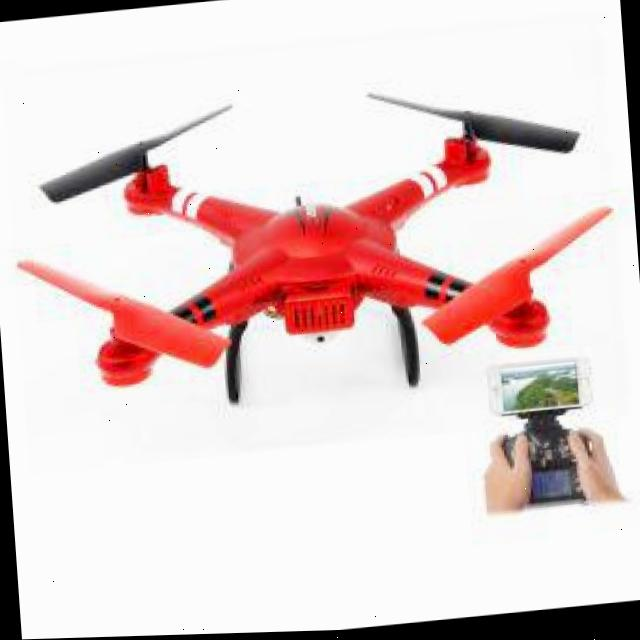drone: (0, 6, 626, 449)
